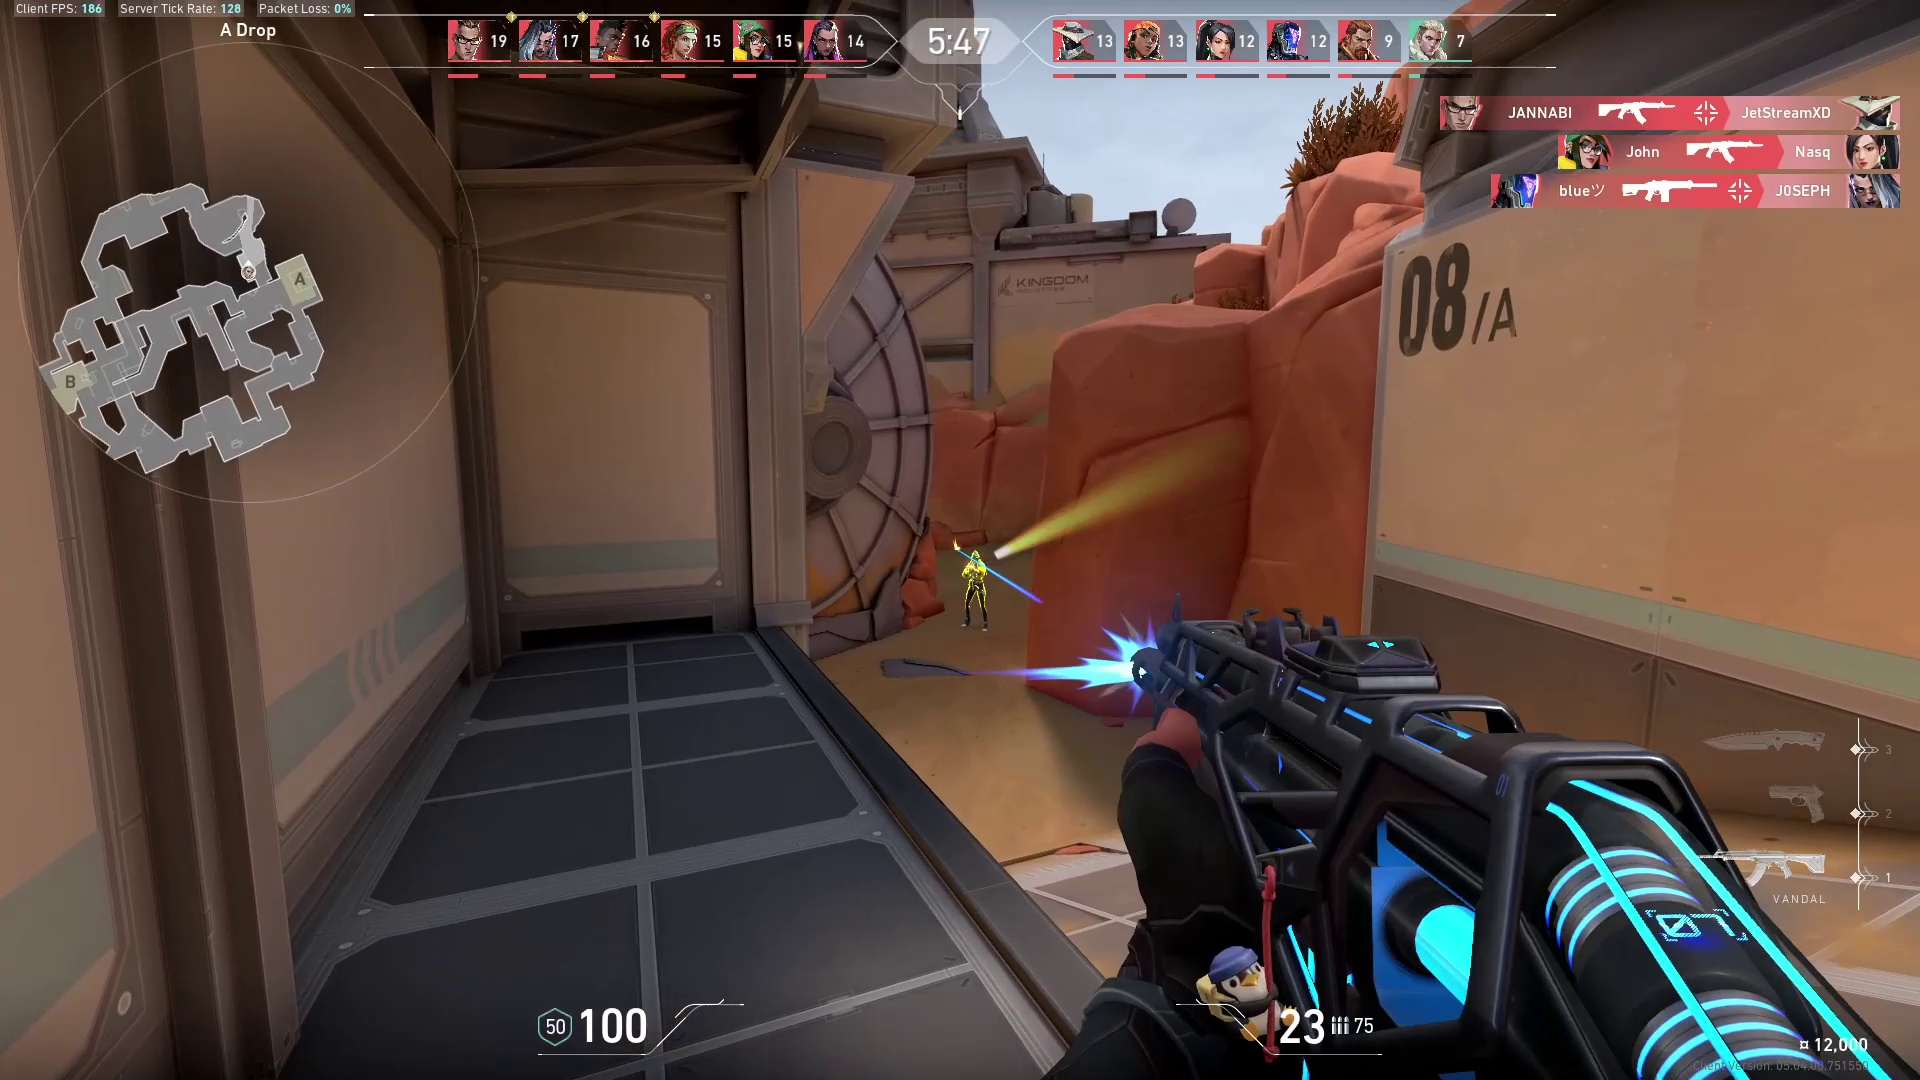enemy_body: (962, 562, 992, 634)
enemy_head: (967, 549, 982, 567)
